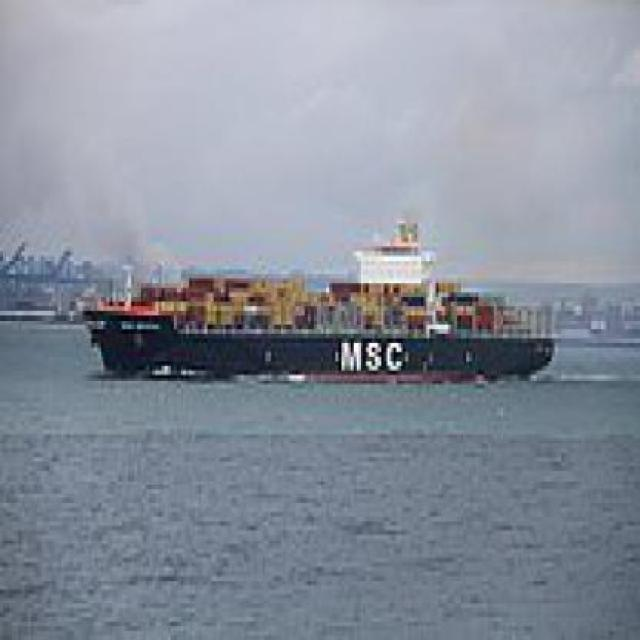container: (74, 206, 562, 394)
